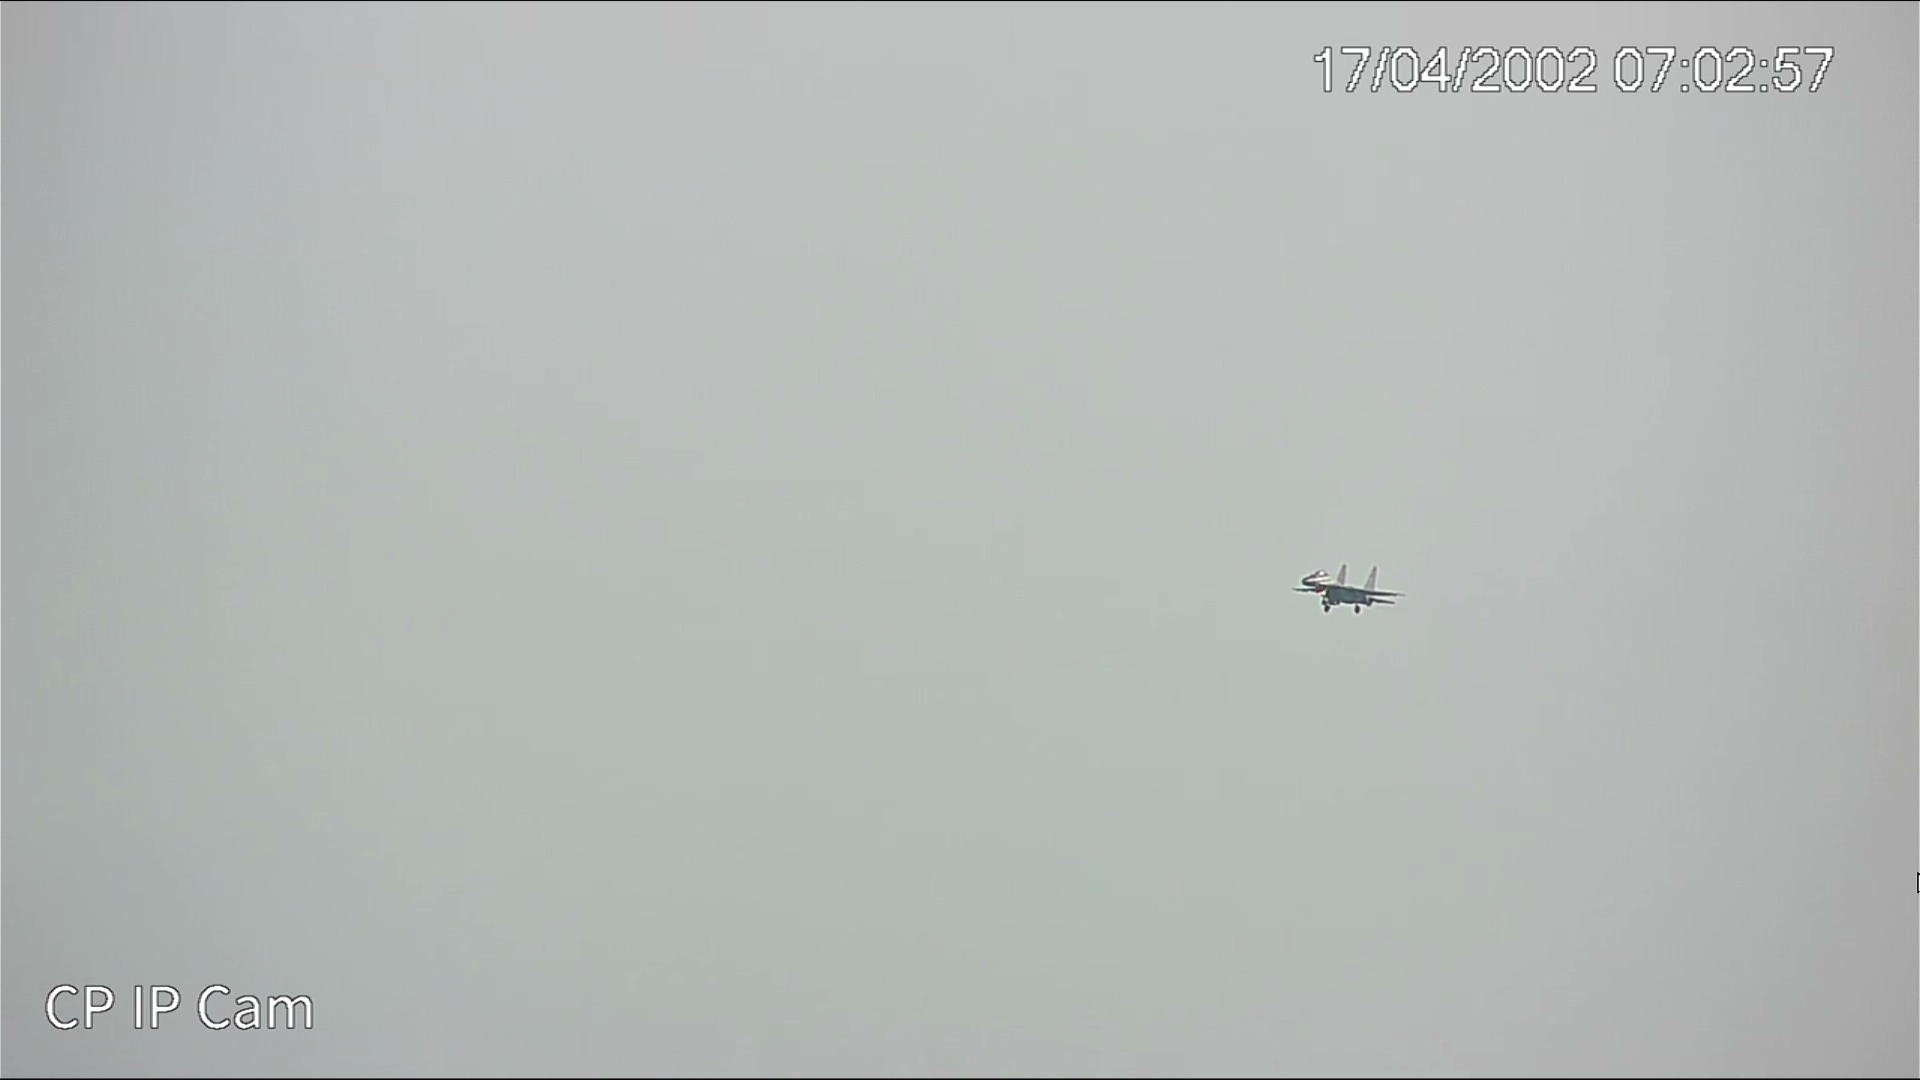SU_30: (1296, 568, 1396, 615)
